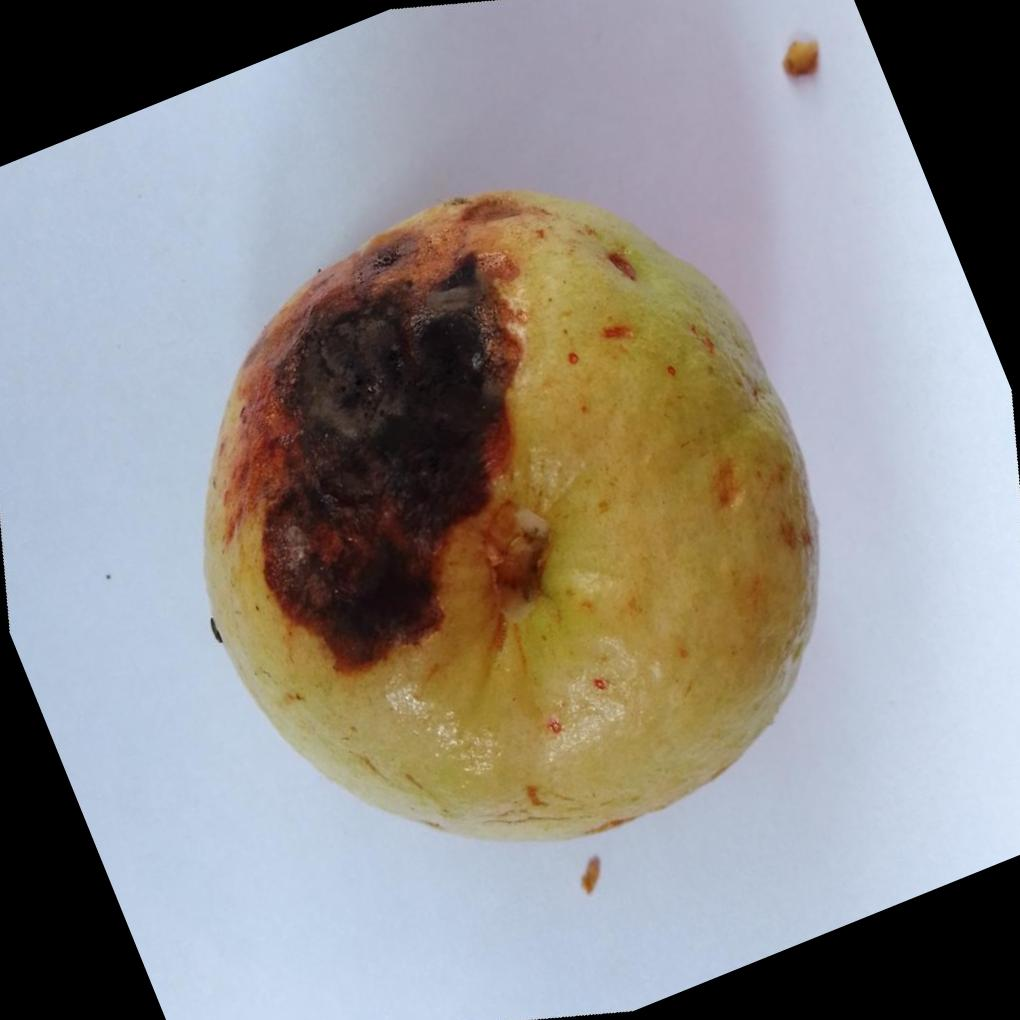FreshOrange: (201, 189, 822, 847)
